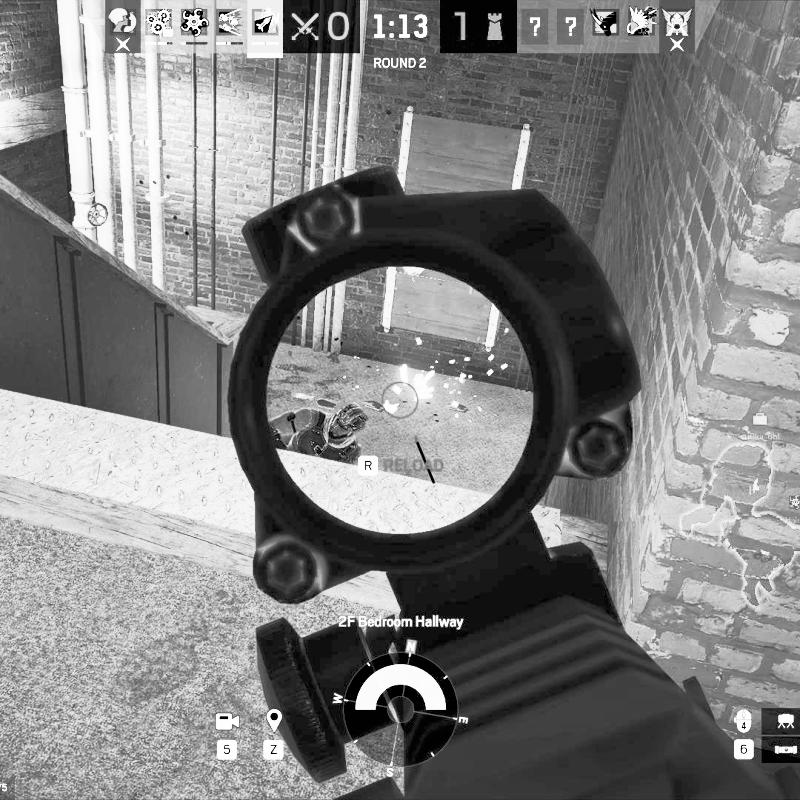Character: (264, 401, 371, 465)
Friend_label: (740, 411, 782, 441), (784, 493, 800, 524)
Head: (326, 401, 369, 441)
